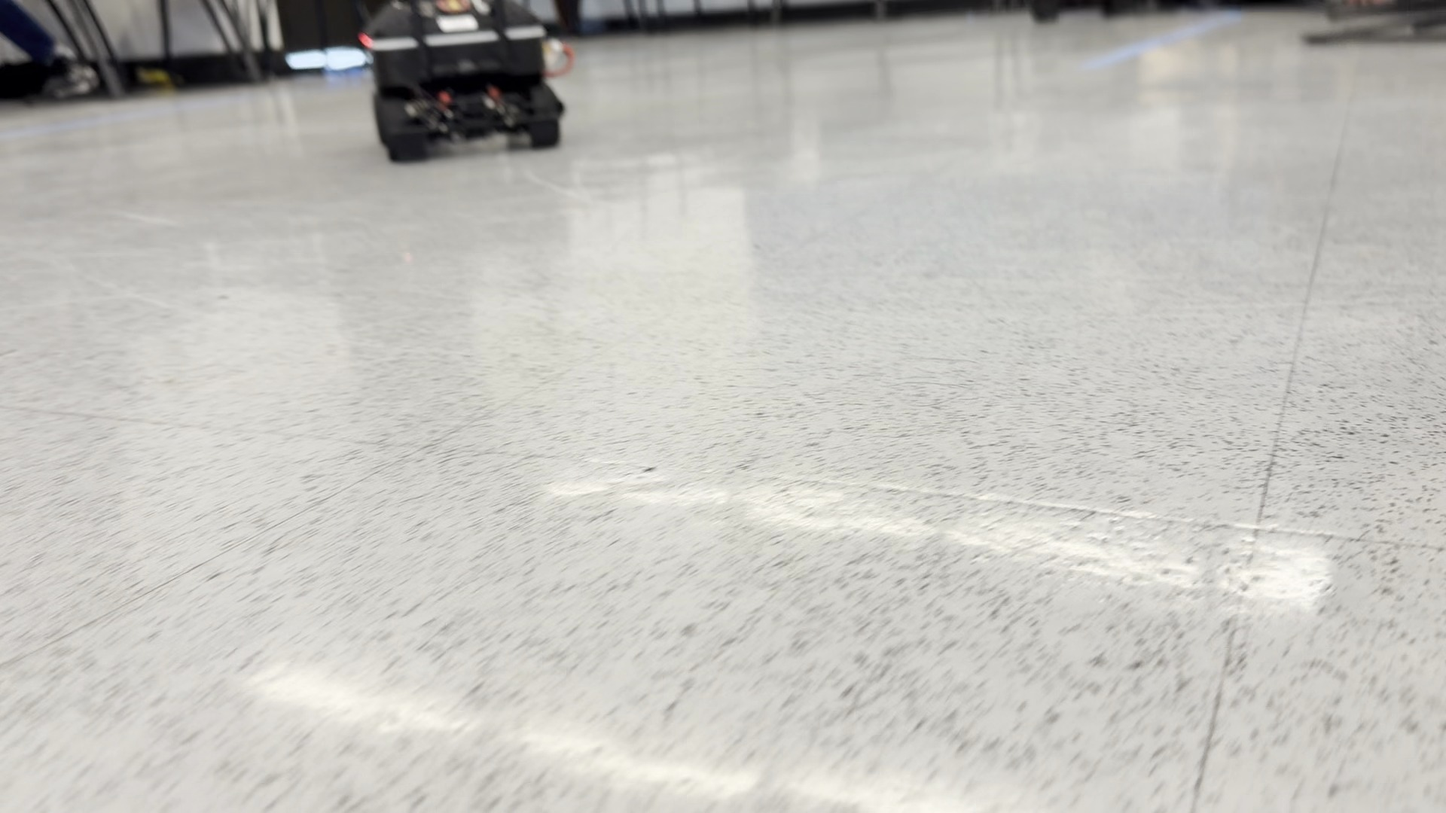racecar: (365, 2, 573, 162)
